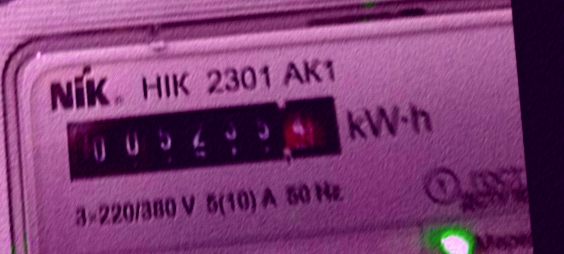0: (123, 127, 146, 161), (91, 134, 112, 166)
2: (188, 118, 212, 153)
3: (220, 113, 247, 148)
4: (289, 107, 314, 144)
5: (254, 109, 279, 147), (156, 122, 178, 156)
screen: (50, 83, 358, 196)
